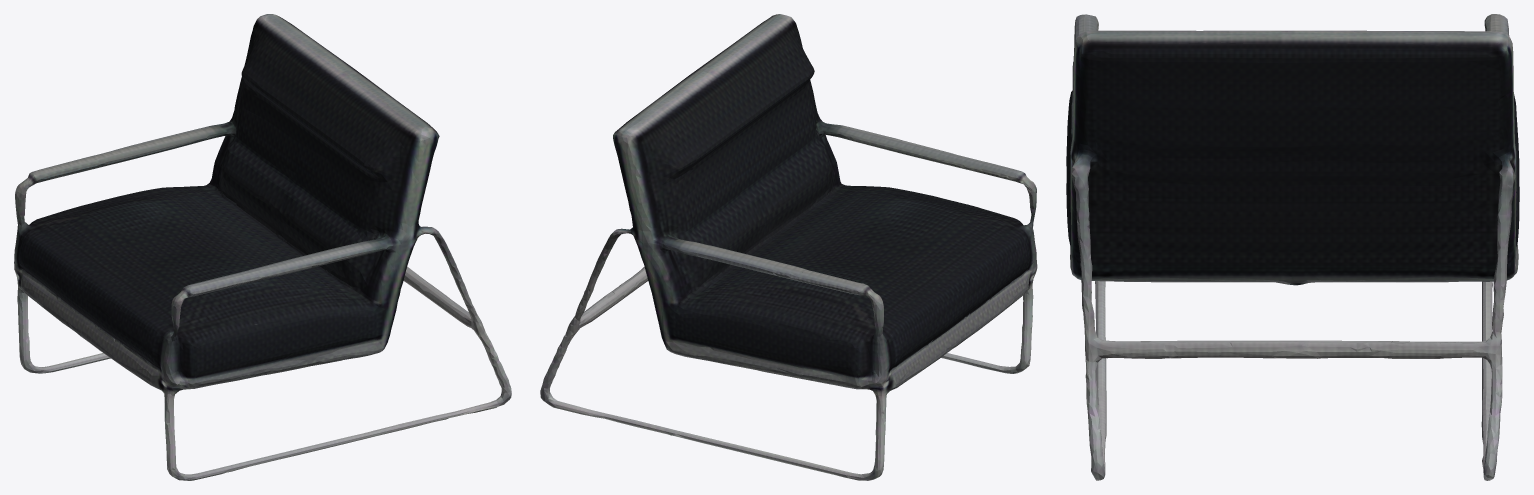
3 views of the same model, side by side, from view 1: azimuth 30°, elevation 25°; view 2: azimuth 150°, elevation 25°; view 3: azimuth 270°, elevation 25° (orthographic). The views are drawn at different scales.
Parts seen in each view (by area): view 1: Mesh_0.011; view 2: Mesh_0.011; view 3: Mesh_0.011.
Part boxes in pixels (left/top/right/bottom): Mesh_0.011: left=14, top=14, right=511, bottom=480; Mesh_0.011: left=540, top=14, right=1037, bottom=480; Mesh_0.011: left=1066, top=14, right=1519, bottom=480.
Size of the model in its own units: 6.2 by 5.06 by 5.23.
Materials: 1 (1 with a texture image).
